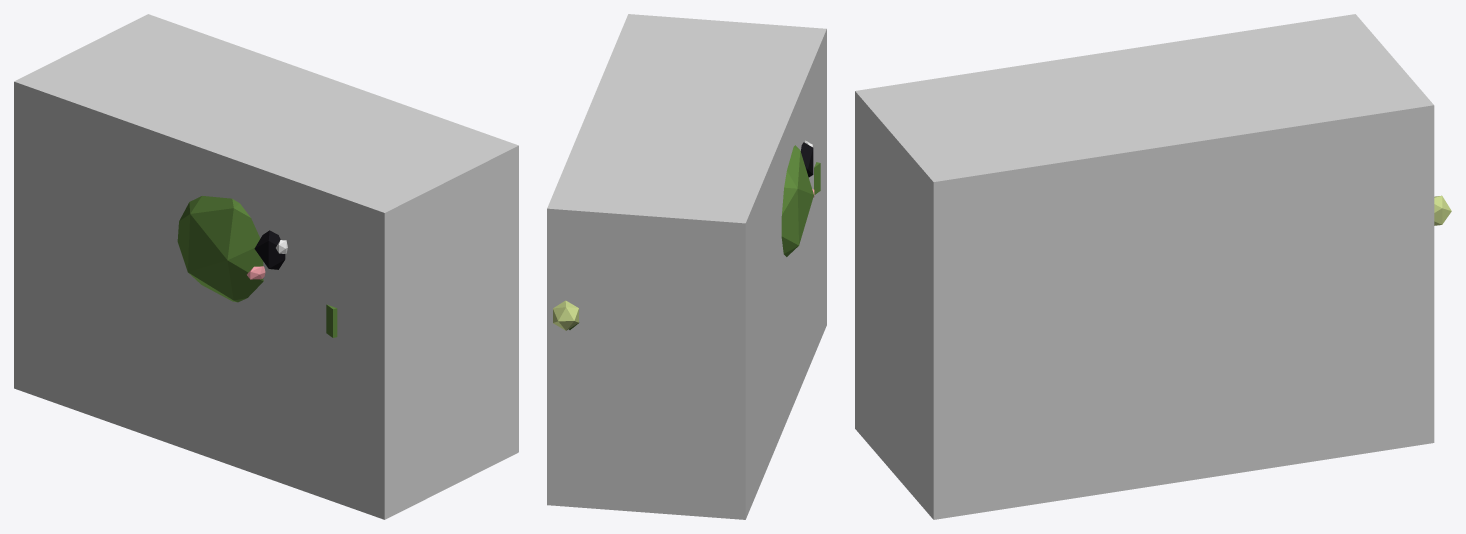
Rendered from desert_pet3.fbx.
The picture shows the model from 3 angles, left to right: view 1: azimuth 30°, elevation 25°; view 2: azimuth 150°, elevation 25°; view 3: azimuth 270°, elevation 25°; orthographic projection. The views are drawn at different scales.
Visible parts, largest first — view 1: Root__0.00_0.47_0.05__0.59_0.95_1.36, Head__Body__0.00_0.48_-0.10; view 2: Root__0.00_0.47_0.05__0.59_0.95_1.36, Head__Body__0.00_0.48_-0.10, Tail__Body__0.00_0.38_0.38; view 3: Root__0.00_0.47_0.05__0.59_0.95_1.36.
Part boxes in pixels (x1=…): Root__0.00_0.47_0.05__0.59_0.95_1.36: x1=14, y1=14, x2=518, y2=519; Head__Body__0.00_0.48_-0.10: x1=177, y1=196, x2=337, y2=337; Root__0.00_0.47_0.05__0.59_0.95_1.36: x1=547, y1=14, x2=826, y2=519; Head__Body__0.00_0.48_-0.10: x1=781, y1=140, x2=820, y2=256; Tail__Body__0.00_0.38_0.38: x1=553, y1=300, x2=579, y2=330; Root__0.00_0.47_0.05__0.59_0.95_1.36: x1=855, y1=14, x2=1434, y2=519.
Bounding box in the file's own units: 28.41 × 26.78 × 42.6.
1 material, 1 textured.
